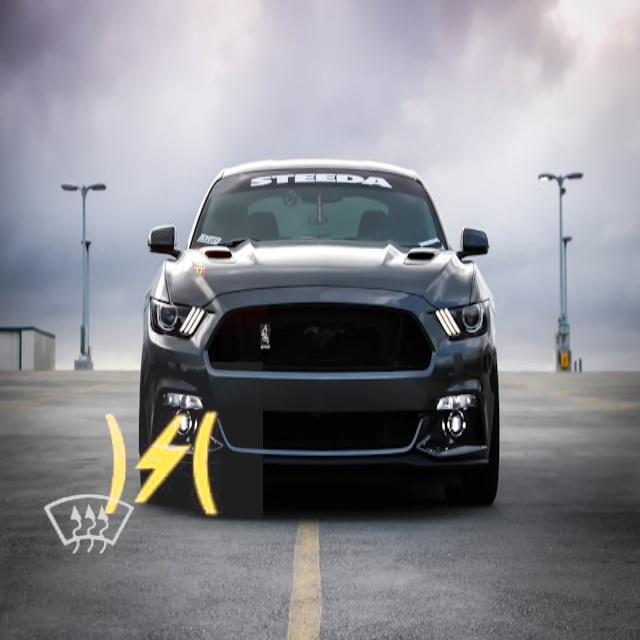symbol: (58, 362, 263, 567), (17, 452, 164, 599), (132, 201, 267, 336)
